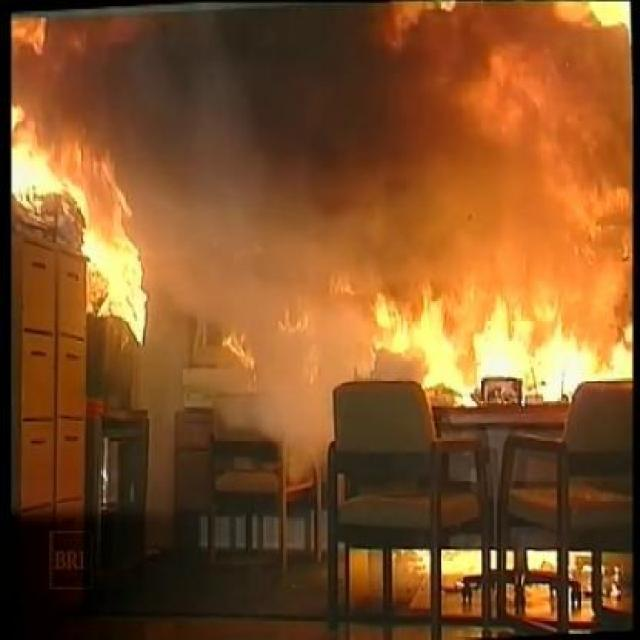fire: (18, 100, 154, 338), (403, 273, 606, 393)
smoke: (170, 73, 310, 330), (245, 347, 348, 456), (328, 132, 374, 243)
